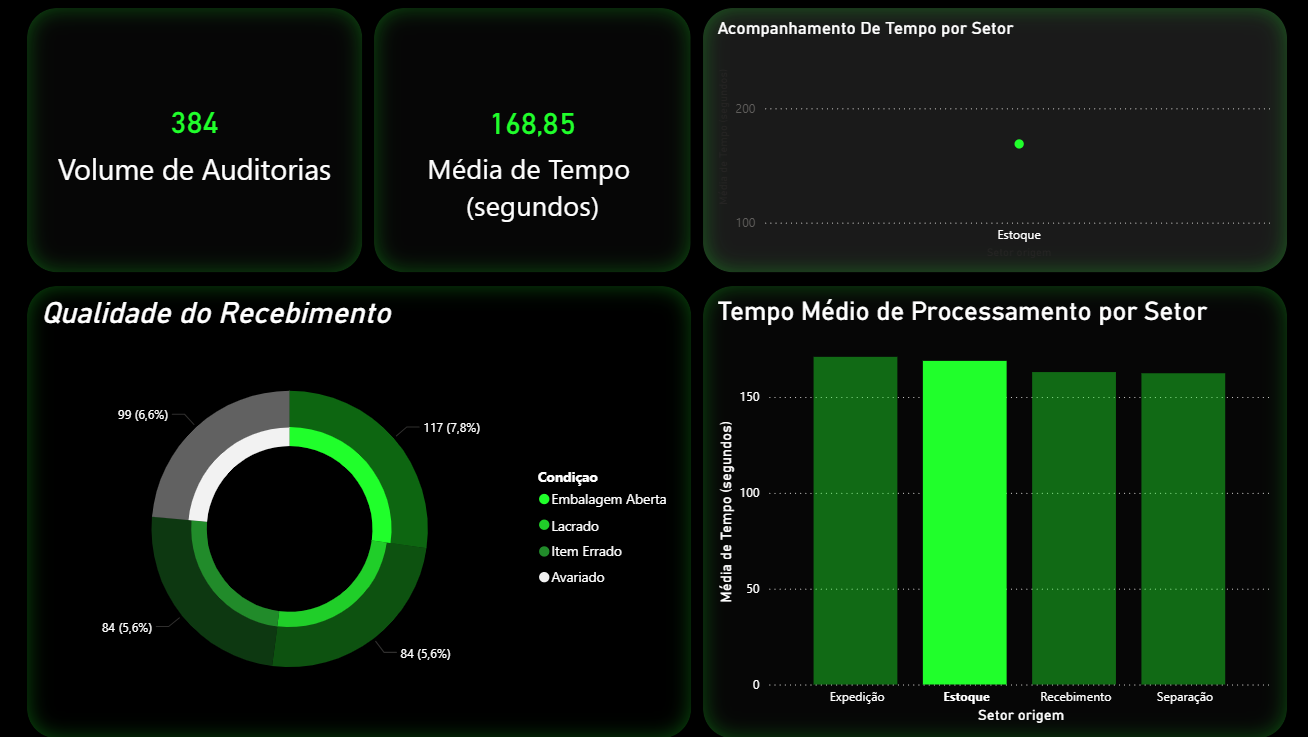

The page's visual inventory and layout, read from the dashboard file:
{"tool":"powerbi","page":{"name":"Página 1","canvas":[1280,720],"ordinal":0},"visuals":[{"type":"clusteredColumnChart","title":"Tempo Médio de Processamento por Setor","fields":{"Category":["base_completa_cajamar csv.Setor origem"],"Y":["Avg(base_completa_cajamar csv.Tempo (segundos))"]},"box":[686.7,278.2,570,441.6],"z":0},{"type":"card","fields":{"Values":["CountNonNull(base_completa_cajamar csv.ID)"]},"box":[29.2,7.8,327.8,258.7],"z":1000},{"type":"donutChart","title":"Qualidade do Recebimento","fields":{"Category":["base_completa_cajamar csv.Condiçao"],"Y":["CountNonNull(base_completa_cajamar csv.ID)"]},"box":[29.2,278.2,647.8,441.6],"z":2000},{"type":"card","fields":{"Values":["Avg(base_completa_cajamar csv.Tempo (segundos))"]},"box":[366.7,7.8,310.3,258.7],"z":3000},{"type":"areaChart","title":"Acompanhamento De Tempo por Setor","fields":{"Category":["base_completa_cajamar csv.Setor origem"],"Y":["Avg(base_completa_cajamar csv.Tempo (segundos))"]},"box":[686.7,7.8,570,258.7],"z":4000}]}

Visuals, with their boxes in screenshot pixels (x1, y1, x2, y2), scaled from the page's 1280x720 canvas onto the 1308x737 screenshot:
"Tempo Médio de Processamento por Setor" clusteredColumnChart: 702/285/1284/736
card - CountNonNull(base_completa_cajamar csv.ID): 30/8/365/273
"Qualidade do Recebimento" donutChart: 30/285/692/736
card - Avg(base_completa_cajamar csv.Tempo (segundos)): 375/8/692/273
"Acompanhamento De Tempo por Setor" areaChart: 702/8/1284/273
